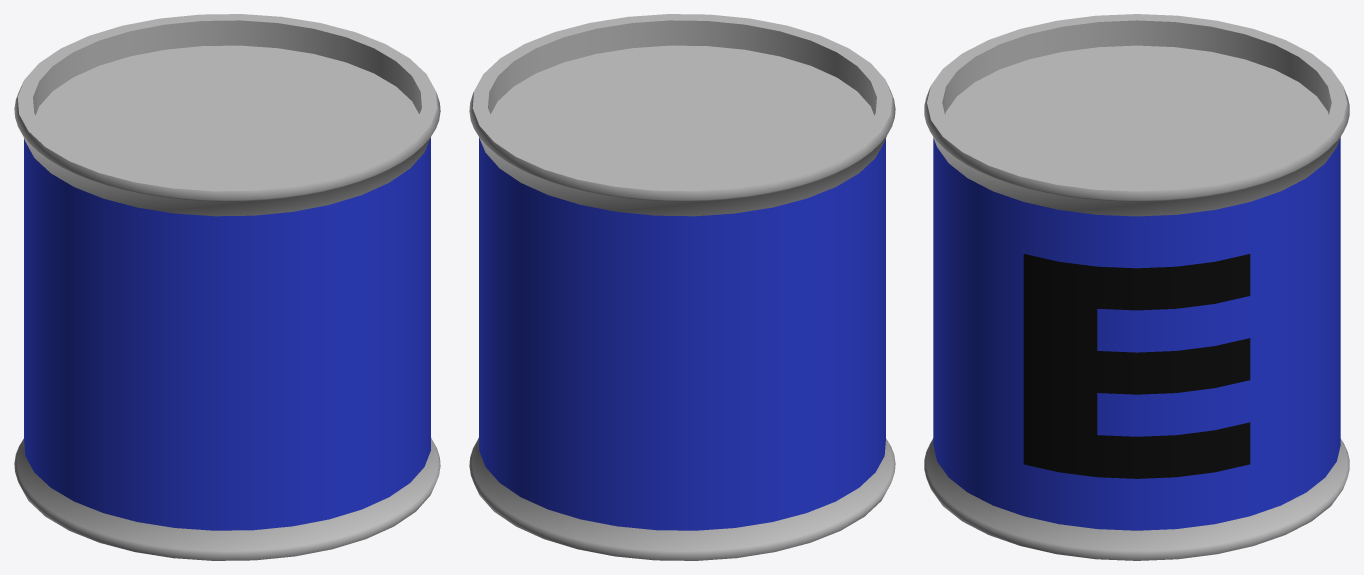
The model's file is power up boost.fbx.
The picture shows the model from 3 angles, left to right: view 1: azimuth 30°, elevation 25°; view 2: azimuth 150°, elevation 25°; view 3: azimuth 270°, elevation 25°; orthographic projection.
Visible parts, largest first — view 1: Cylinder.001; view 2: Cylinder.001; view 3: Cylinder.001.
Boxes of the visible parts, x1,y1,x2,y2 form: Cylinder.001: (14,14,440,560); Cylinder.001: (469,14,895,560); Cylinder.001: (924,14,1349,560).
Bounding box in the file's own units: 209 × 200 × 209.
